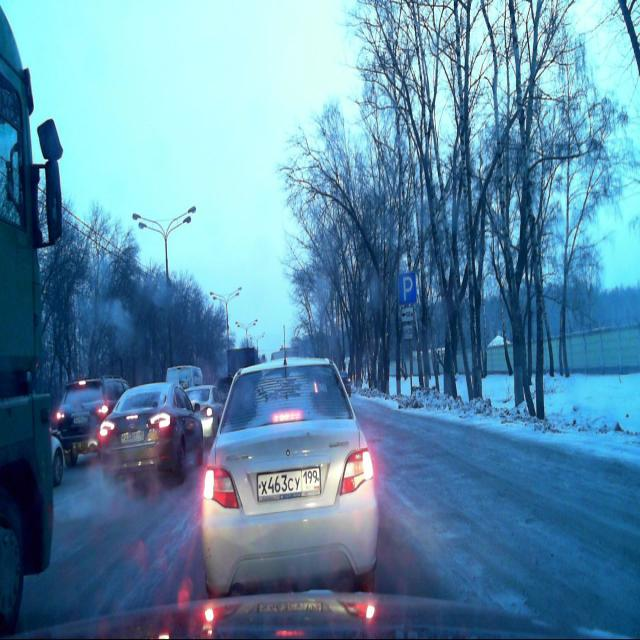road sign: (399, 272, 416, 303), (400, 308, 414, 322)
